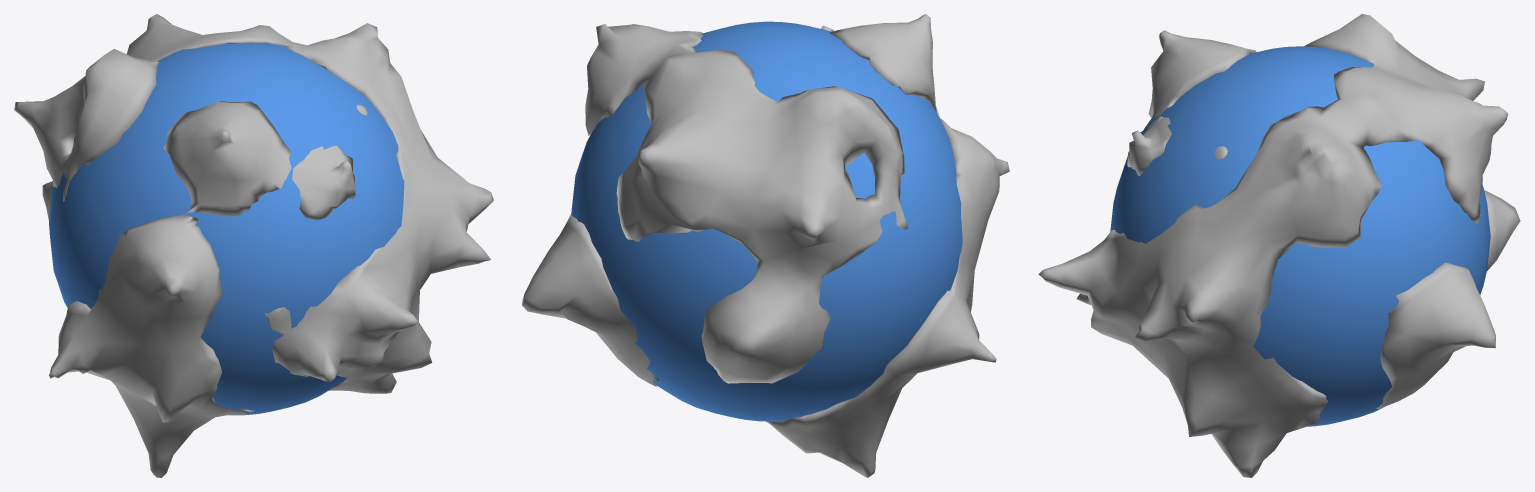
The model's file is planet1_for_texture.fbx.
3 renders of one model, left to right at view 1: azimuth 30°, elevation 25°; view 2: azimuth 150°, elevation 25°; view 3: azimuth 270°, elevation 25°, orthographic. The views are drawn at different scales.
Visible parts, largest first — view 1: mountain_low, planet_low; view 2: mountain_low, planet_low; view 3: mountain_low, planet_low.
Boxes of the visible parts, bbox=[...] form: mountain_low: bbox=[14, 14, 493, 477]; planet_low: bbox=[49, 42, 404, 415]; mountain_low: bbox=[522, 14, 1009, 477]; planet_low: bbox=[571, 21, 962, 421]; mountain_low: bbox=[1038, 14, 1520, 477]; planet_low: bbox=[1110, 46, 1490, 426].
Bounding box in the file's own units: 248 × 231 × 253.
